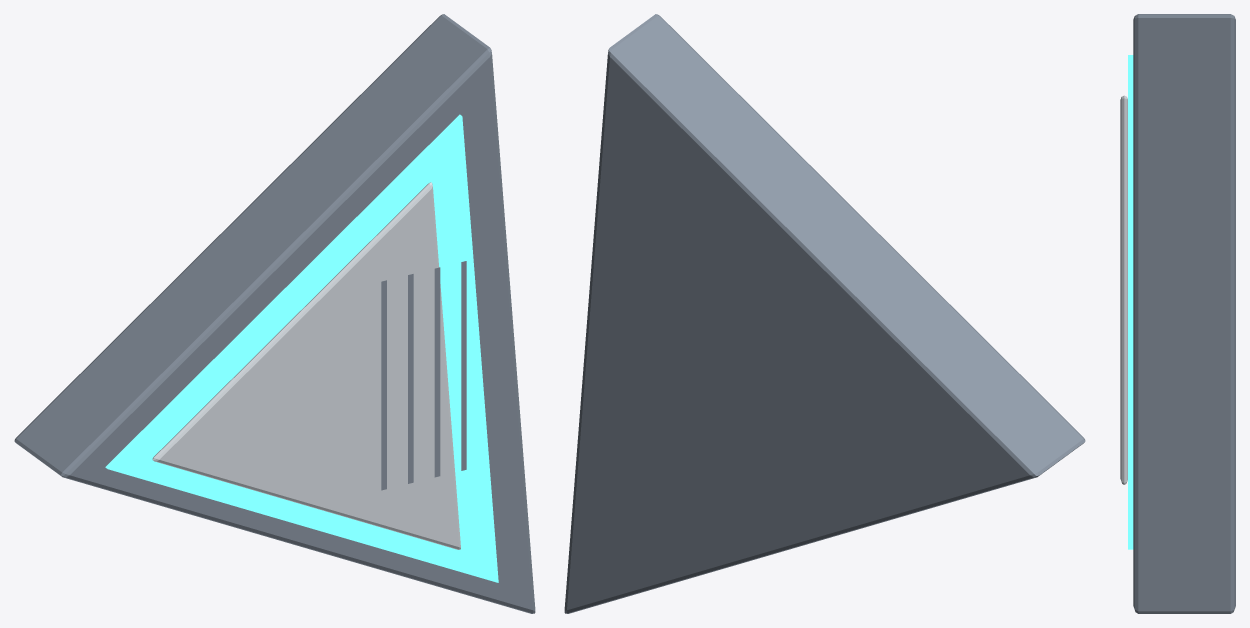
Rendered from FocusDevice.fbx.
3 renders of one model, left to right at view 1: azimuth 30°, elevation 25°; view 2: azimuth 150°, elevation 25°; view 3: azimuth 270°, elevation 25°, orthographic.
Visible parts, largest first — view 1: Device shell, Device pearl cap, Device luminous inset, Device etched channel 2, Device etched channel 0, Device etched channel 1, Device etched channel 3; view 2: Device shell; view 3: Device shell, Device pearl cap, Device luminous inset.
Part boxes in pixels (bbox=[...]): Device shell: bbox=[14, 14, 535, 613]; Device pearl cap: bbox=[152, 182, 460, 549]; Device luminous inset: bbox=[105, 114, 498, 582]; Device etched channel 2: bbox=[434, 267, 440, 477]; Device etched channel 0: bbox=[381, 280, 386, 490]; Device etched channel 1: bbox=[408, 274, 413, 483]; Device etched channel 3: bbox=[461, 261, 466, 470]; Device shell: bbox=[564, 14, 1085, 613]; Device shell: bbox=[1133, 14, 1235, 613]; Device pearl cap: bbox=[1120, 95, 1127, 484]; Device luminous inset: bbox=[1128, 55, 1133, 549].
Size of the model in its own units: 4.28 by 4.97 by 0.95.
